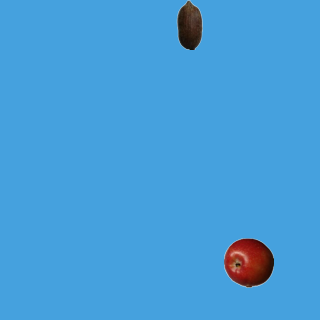Apple Braeburn: (223, 237, 273, 287)
Nut Pecan: (164, 0, 214, 49)
